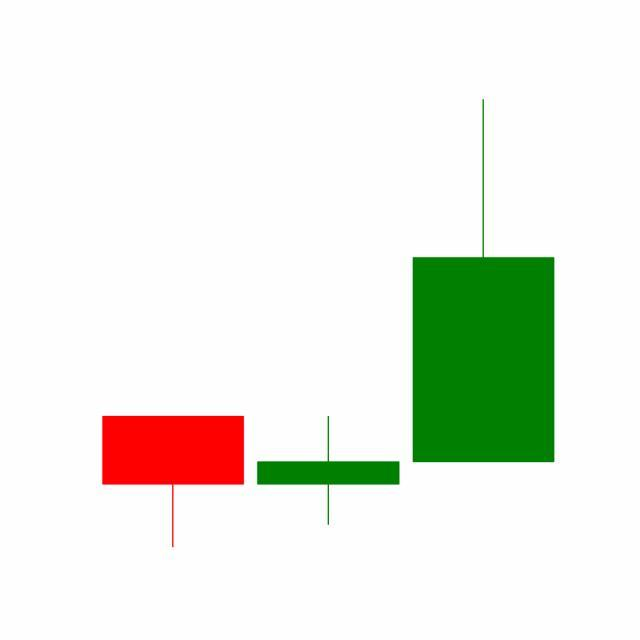Spinning Top: (250, 415, 407, 527)
